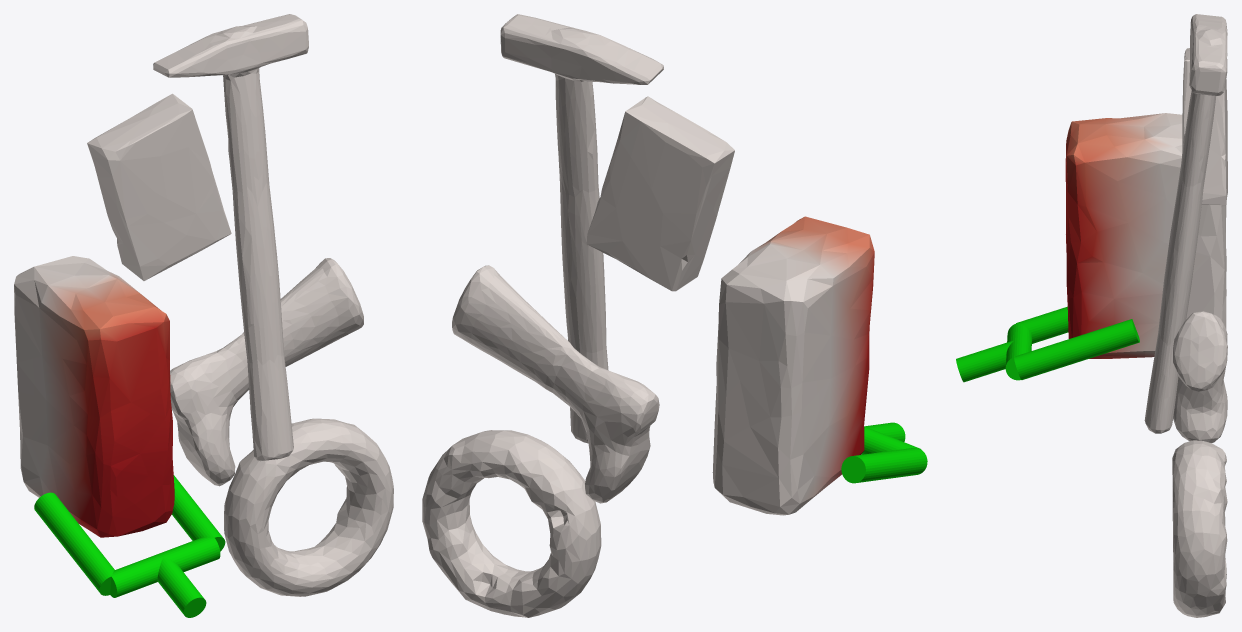
Rendered from round_000_trial_000.obj.
3 views of the same model, side by side, from view 1: azimuth 30°, elevation 25°; view 2: azimuth 150°, elevation 25°; view 3: azimuth 270°, elevation 25° (orthographic). The views are drawn at different scales.
Parts seen in each view (by area): view 1: geometry_0, geometry_1; view 2: geometry_0, geometry_1; view 3: geometry_0, geometry_1.
Part boxes in pixels (<box>): geometry_0: <box>14,14,393,596</box>; geometry_1: <box>34,475,225,617</box>; geometry_0: <box>422,14,874,617</box>; geometry_1: <box>841,422,927,483</box>; geometry_0: <box>1065,14,1227,617</box>; geometry_1: <box>956,306,1139,382</box>.
Size of the model in its own units: 0.1704 by 0.2414 by 0.1091.
